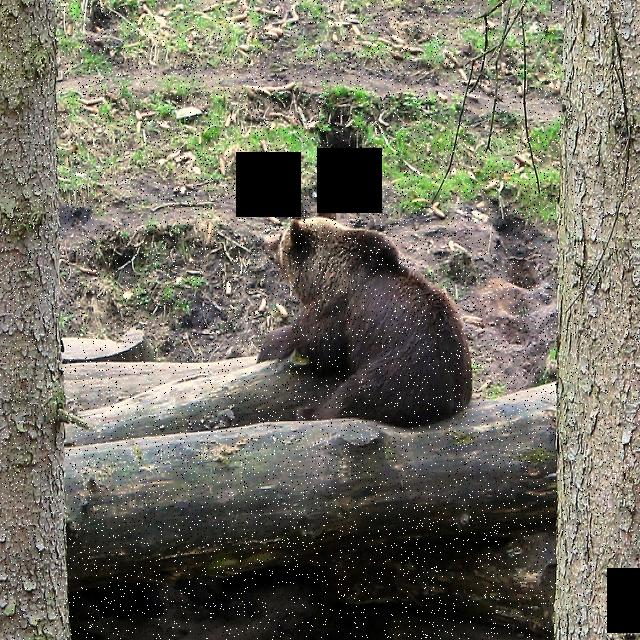Bear: (252, 200, 476, 431)
